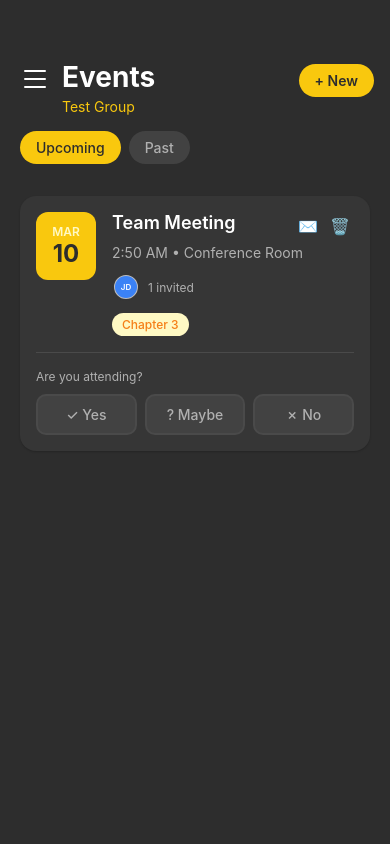
Test: MeetingsScreen › should open email modal when email button is pressed
Click the text "✉️" at (308, 226), box [298,216,318,236]
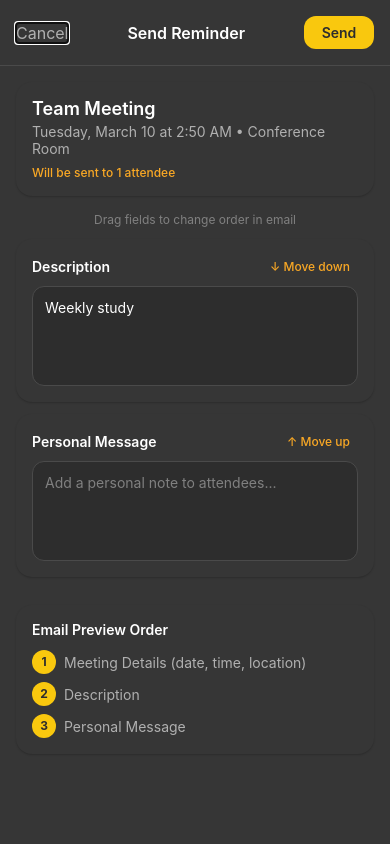
Now the text "Send" is shown, box [322,24,356,41]
Now the text "Will be sent to 1 attendee" is shown, box [32,165,175,180]
Now the text "Team Meeting" is shown 2 times, box [112,212,236,233]; [32,98,156,119]
